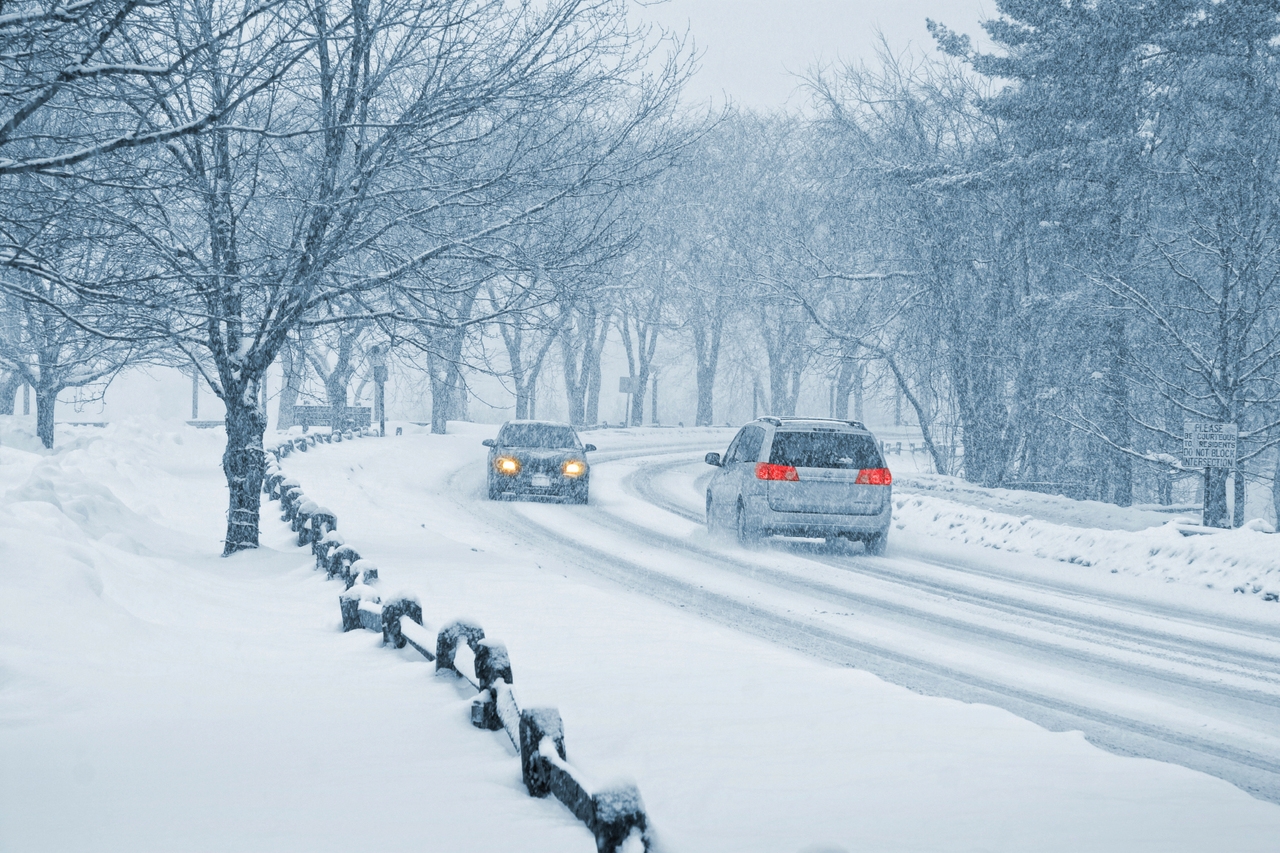car: (701, 415, 895, 552), (480, 415, 598, 505)
